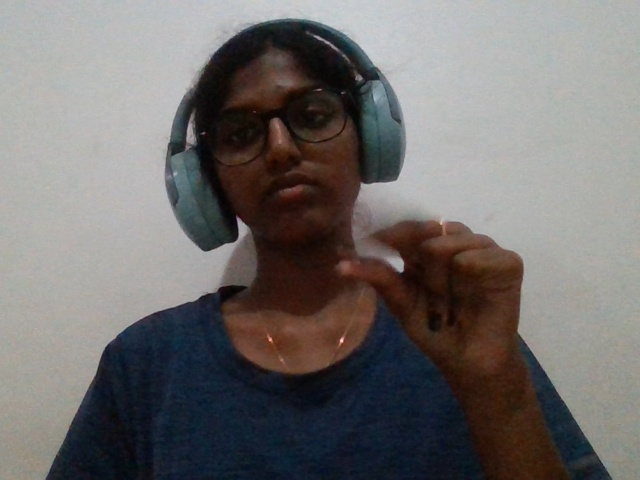No: (299, 199, 569, 408)
